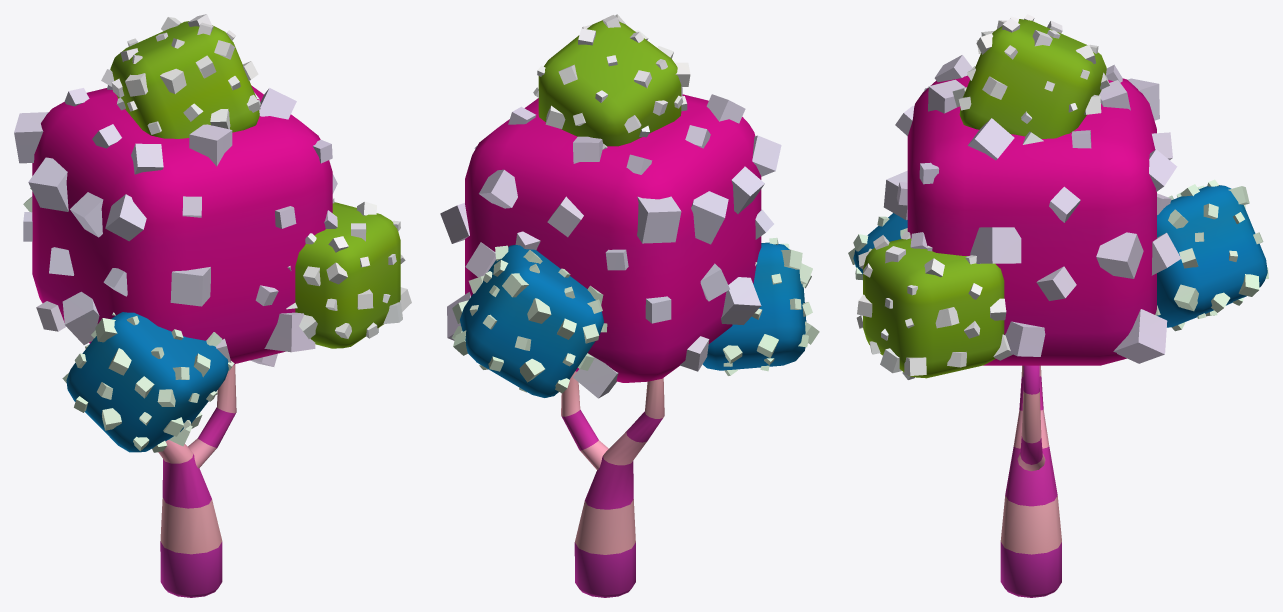
The model's file is cw_tree_23.fbx.
3 views of the same model, side by side, from view 1: azimuth 30°, elevation 25°; view 2: azimuth 150°, elevation 25°; view 3: azimuth 270°, elevation 25° (orthographic).
Parts seen in each view (by area): view 1: cw_t_23; view 2: cw_t_23; view 3: cw_t_23.
Boxes of the visible parts, x1,y1,x2,y2 form: cw_t_23: [14, 14, 411, 597]; cw_t_23: [440, 14, 819, 597]; cw_t_23: [848, 14, 1268, 597].
Size of the model in its own units: 137 by 234 by 156.
